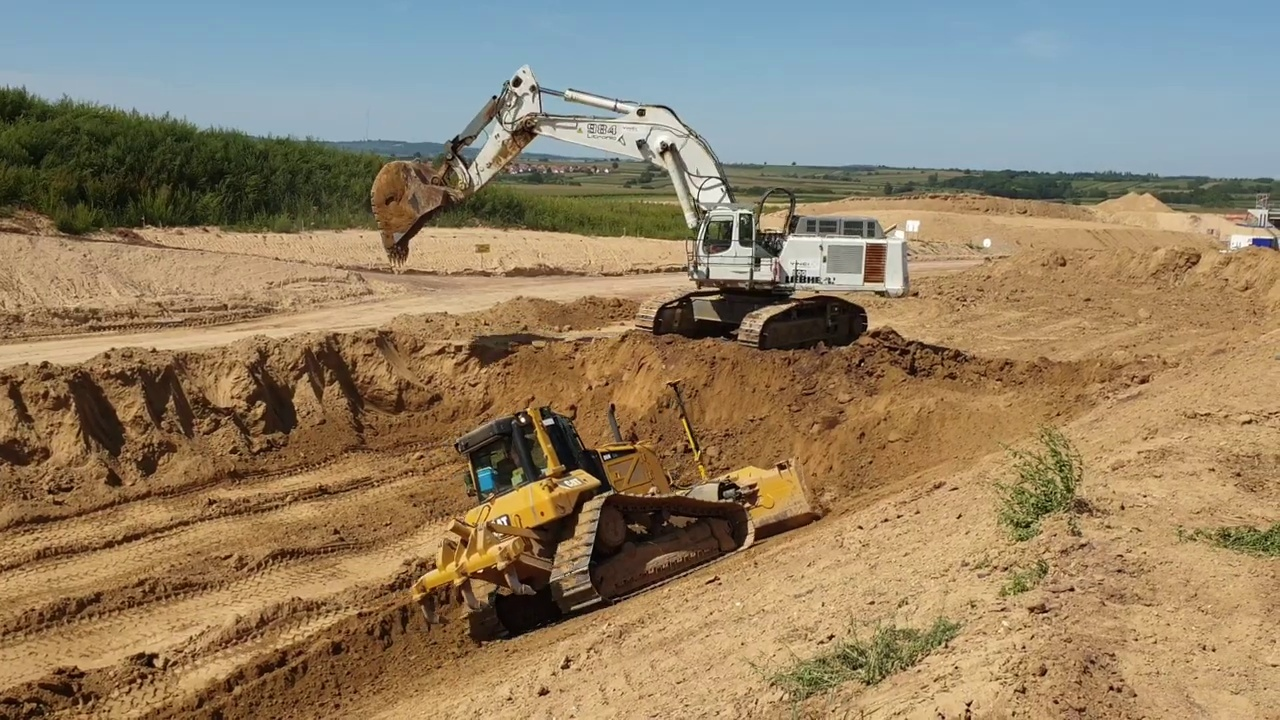bulldozer: (408, 376, 830, 641)
excavator: (364, 58, 911, 354)
